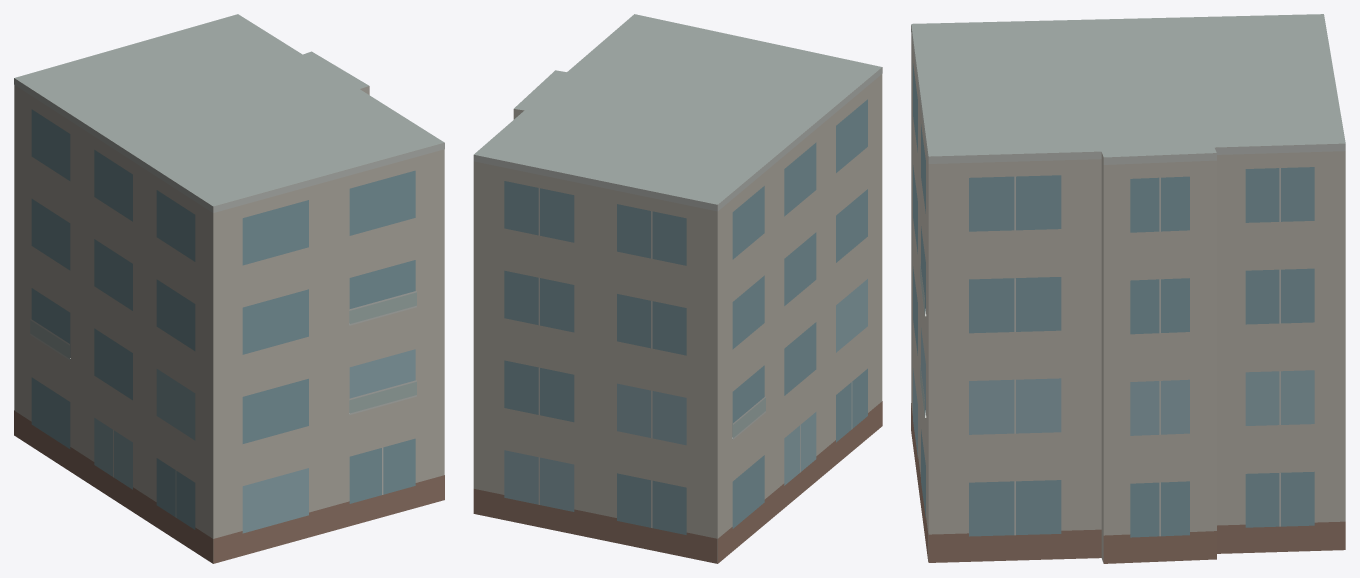
Rendered from survey-upis-32666433.glb.
3 views of the same model, side by side, from view 1: azimuth 30°, elevation 25°; view 2: azimuth 150°, elevation 25°; view 3: azimuth 270°, elevation 25° (orthographic). The views are drawn at different scales.
Parts seen in each view (by area): view 1: survey-upis-32666433.tmp; view 2: survey-upis-32666433.tmp; view 3: survey-upis-32666433.tmp.
Boxes of the visible parts, <box> form: survey-upis-32666433.tmp: <box>14,14,444,563</box>; survey-upis-32666433.tmp: <box>473,14,882,563</box>; survey-upis-32666433.tmp: <box>911,14,1345,563</box>.
Bounding box in the file's own units: 9.96 × 13.15 × 12.76.
